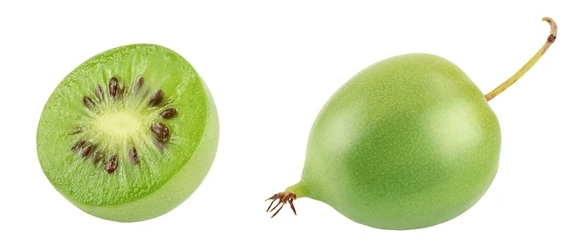kiwi: (264, 41, 517, 235), (44, 17, 216, 218)
